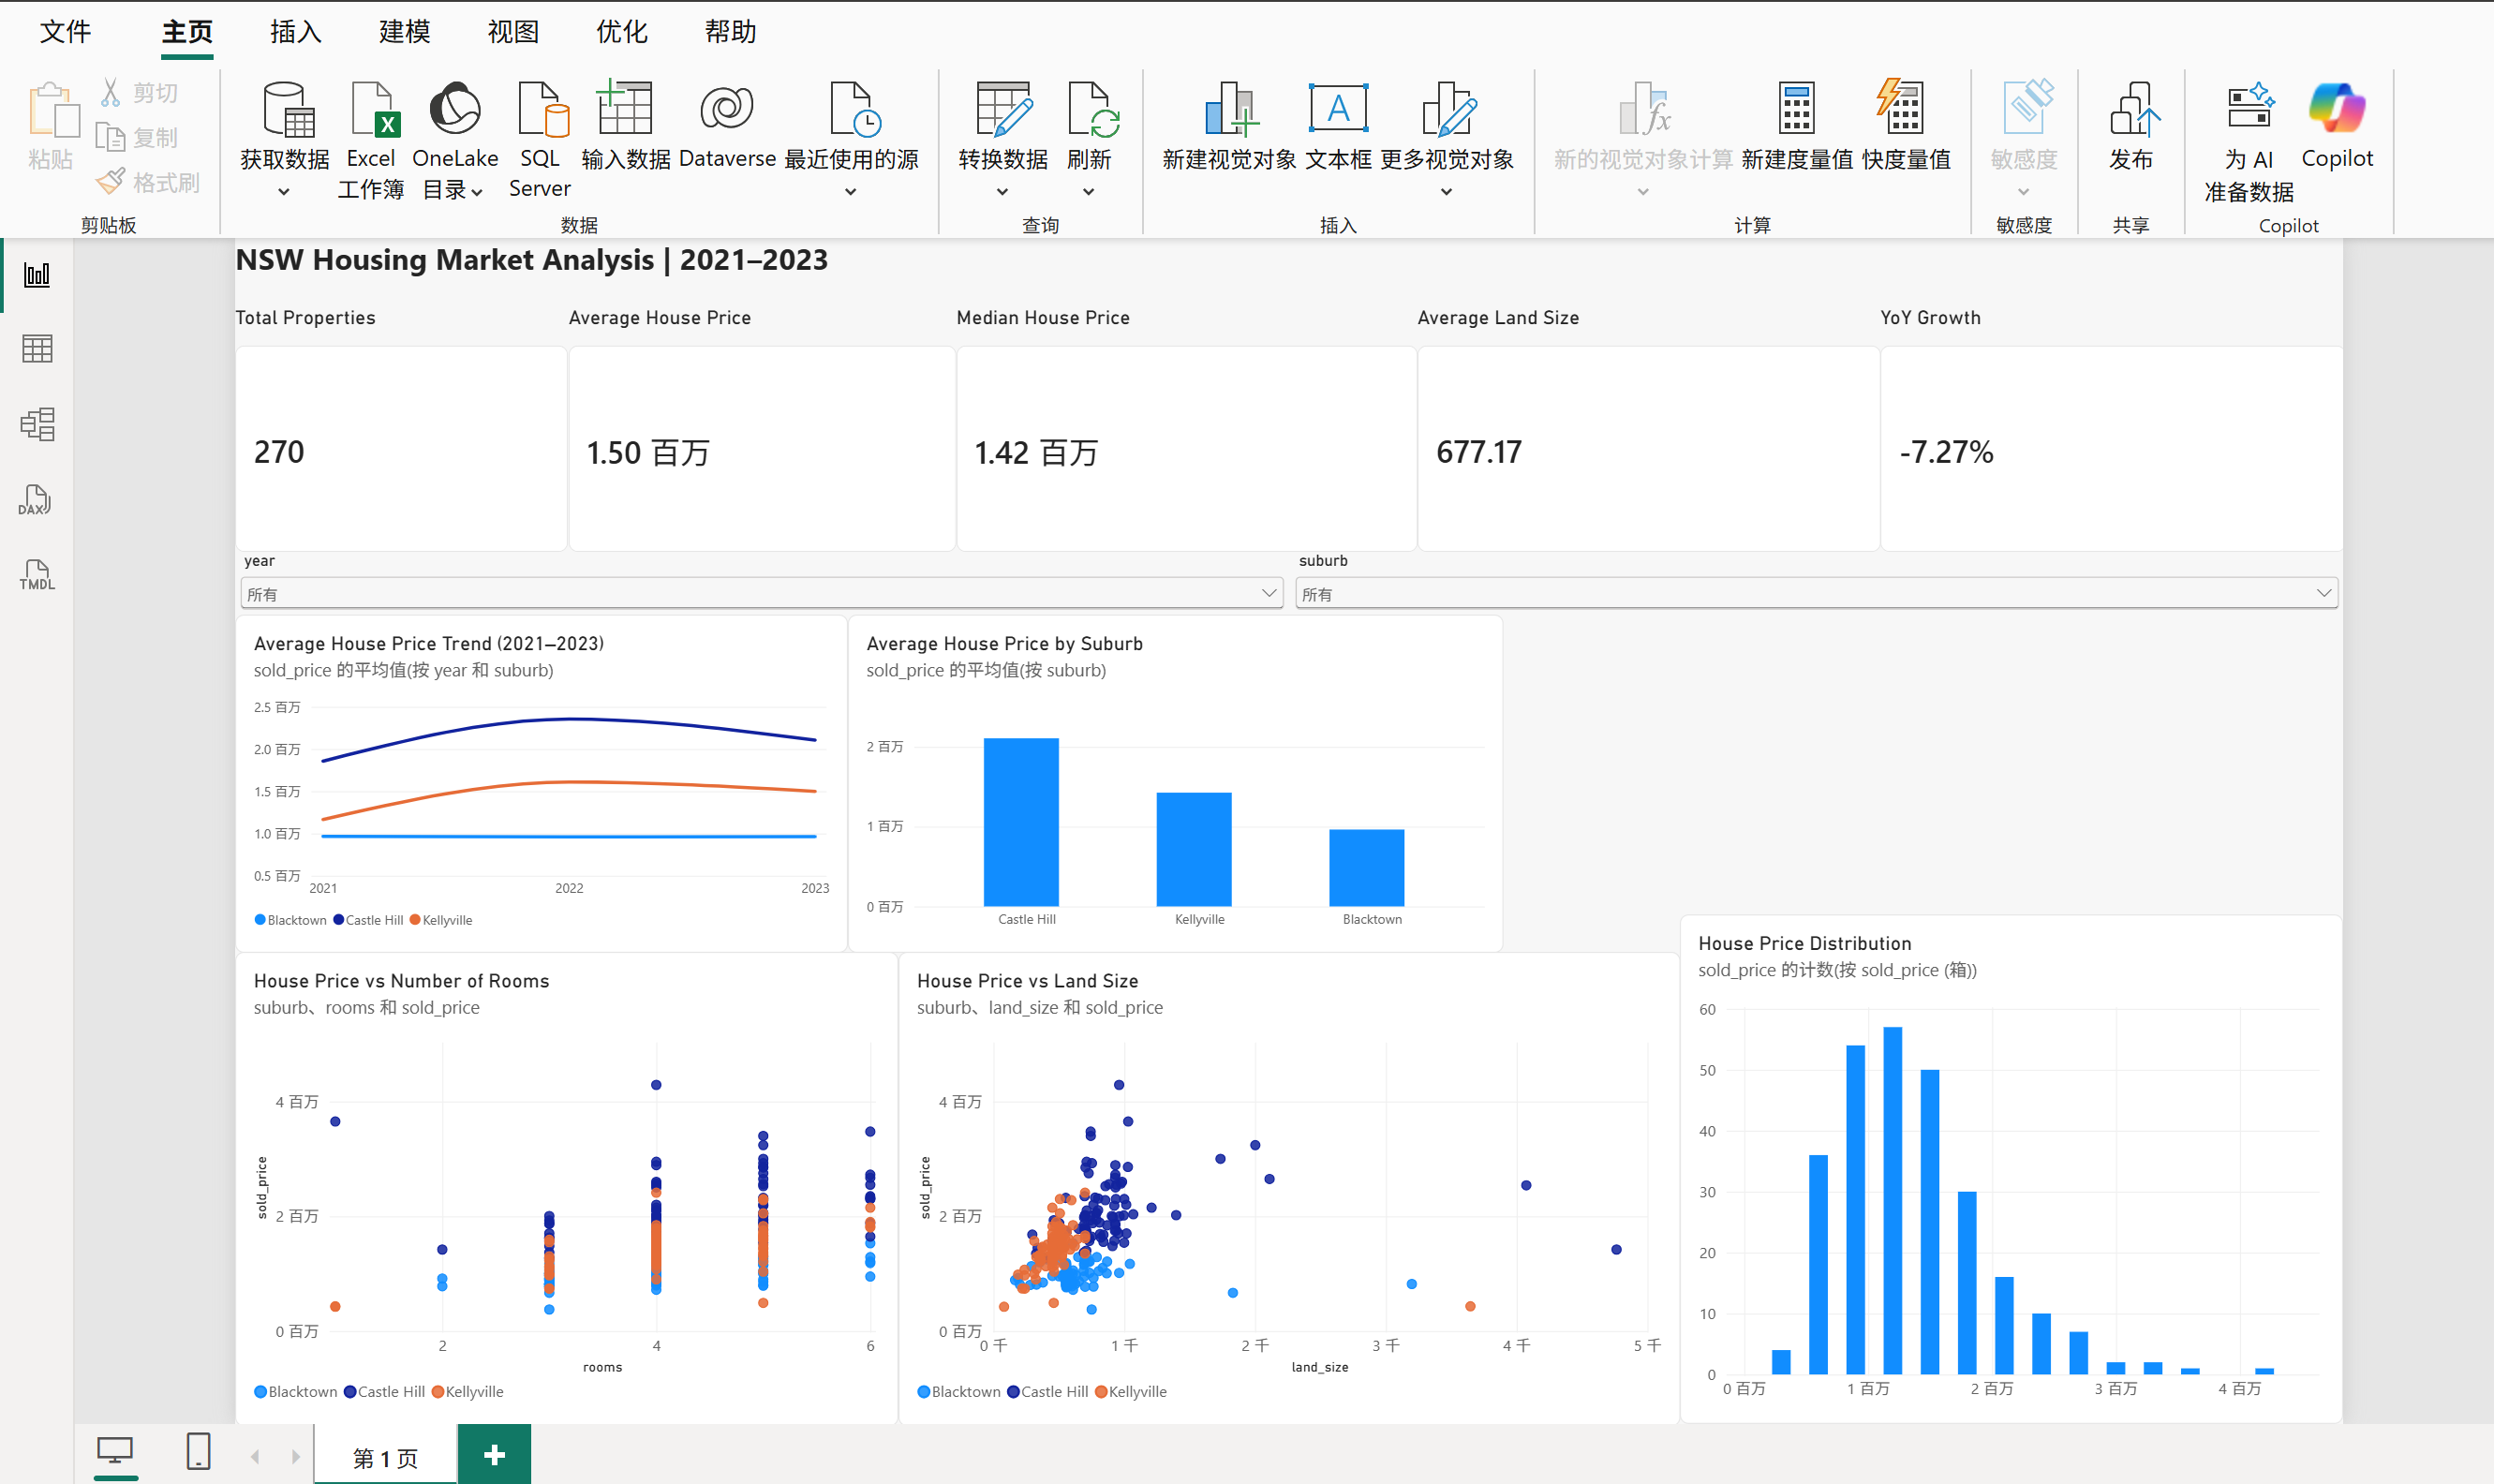

The page's visual inventory and layout, read from the dashboard file:
{"tool":"powerbi","page":{"name":"第 1 页","canvas":[1920,1080],"ordinal":0},"visuals":[{"type":"cardVisual","title":"Total Properties","fields":{"Data":["Sheet1.Total Properties"]},"box":[0,62,303.2,225.1],"z":0},{"type":"cardVisual","title":"Average House Price","fields":{"Data":["Sheet1.Average House Price"]},"box":[303.2,62,353.7,225.1],"z":1},{"type":"cardVisual","title":"Median House Price","fields":{"Data":["Sheet1.Median Price"]},"box":[656.8,62,420.3,225.1],"z":2},{"type":"cardVisual","title":"Average Land Size","fields":{"Data":["Sheet1.Average Land Size"]},"box":[1077.1,62,422.6,225.1],"z":3},{"type":"slicer","fields":{"Values":["Sheet1.year"]},"box":[0,284.8,960,234.3],"z":4},{"type":"cardVisual","title":"YoY Growth","fields":{"Data":["Sheet1.YoY- Growth"]},"box":[1497.4,62,424.9,225.1],"z":5},{"type":"slicer","fields":{"Values":["Sheet1.suburb"]},"box":[960,284.8,960,280.2],"z":6},{"type":"lineChart","title":"Average House Price Trend (2021–2023)","fields":{"Category":["Sheet1.year"],"Series":["Sheet1.suburb"],"Y":["Avg(Sheet1.sold_price)"]},"box":[0,342.2,558.1,307.8],"z":7},{"type":"clusteredColumnChart","title":"Average House Price by Suburb","fields":{"Category":["Sheet1.suburb"],"Y":["Avg(Sheet1.sold_price)"]},"box":[558.1,342.2,597.1,307.8],"z":8},{"type":"scatterChart","title":"House Price vs Number of Rooms","fields":{"Series":["Sheet1.suburb"],"X":["Sheet1.rooms"],"Y":["Sheet1.sold_price"]},"box":[0,650,604,431.8],"z":9},{"type":"scatterChart","title":"House Price vs Land Size","fields":{"Series":["Sheet1.suburb"],"X":["Sheet1.land_size"],"Y":["Sheet1.sold_price"]},"box":[604,650,712,431.8],"z":10},{"type":"textbox","box":[0,0,558.1,103.3],"z":11},{"type":"clusteredColumnChart","title":"House Price Distribution","fields":{"Category":["Sheet1.sold_price (箱)"],"Y":["CountNonNull(Sheet1.sold_price)"]},"box":[1316,615.5,604,463.9],"z":12}]}

Visuals, with their boxes on the page's 1920x1080 design canvas (x1, y1, x2, y2). These are canvas units, not pixel positions in the 2494x1484 screenshot, which may show the page scaled, cropped or inside an application window:
"Total Properties" cardVisual: detection(0, 62, 303, 287)
"Average House Price" cardVisual: detection(303, 62, 657, 287)
"Median House Price" cardVisual: detection(657, 62, 1077, 287)
"Average Land Size" cardVisual: detection(1077, 62, 1500, 287)
slicer - Sheet1.year: detection(0, 285, 960, 519)
"YoY Growth" cardVisual: detection(1497, 62, 1922, 287)
slicer - Sheet1.suburb: detection(960, 285, 1920, 565)
"Average House Price Trend (2021–2023)" lineChart: detection(0, 342, 558, 650)
"Average House Price by Suburb" clusteredColumnChart: detection(558, 342, 1155, 650)
"House Price vs Number of Rooms" scatterChart: detection(0, 650, 604, 1082)
"House Price vs Land Size" scatterChart: detection(604, 650, 1316, 1082)
textbox: detection(0, 0, 558, 103)
"House Price Distribution" clusteredColumnChart: detection(1316, 616, 1920, 1079)
